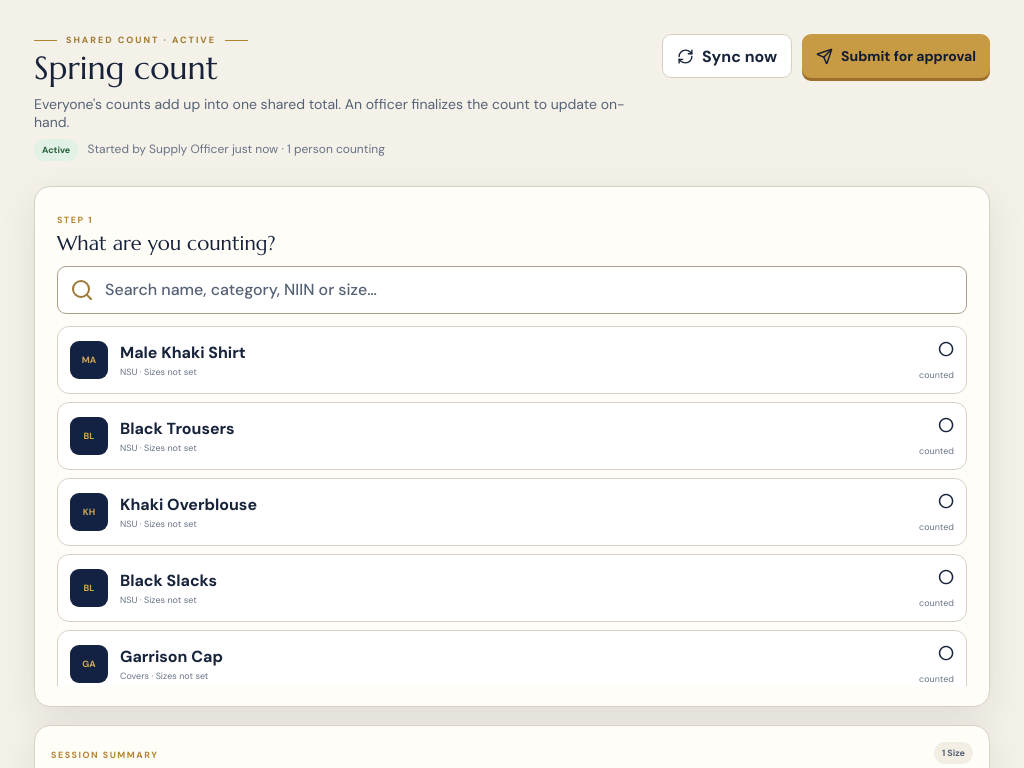
Test: count approval (spec §13) › an assistant submits the count for approval; it then reads Needs approval and closes to contributions
The image size is (1024, 768).
Expected: the text "SHARED COUNT · ACTIVE" is shown, x1=66 y1=34 x2=216 y2=46
Click the button "Submit for approval" at coordinates (896, 56), box x1=802 y1=34 x2=990 y2=78
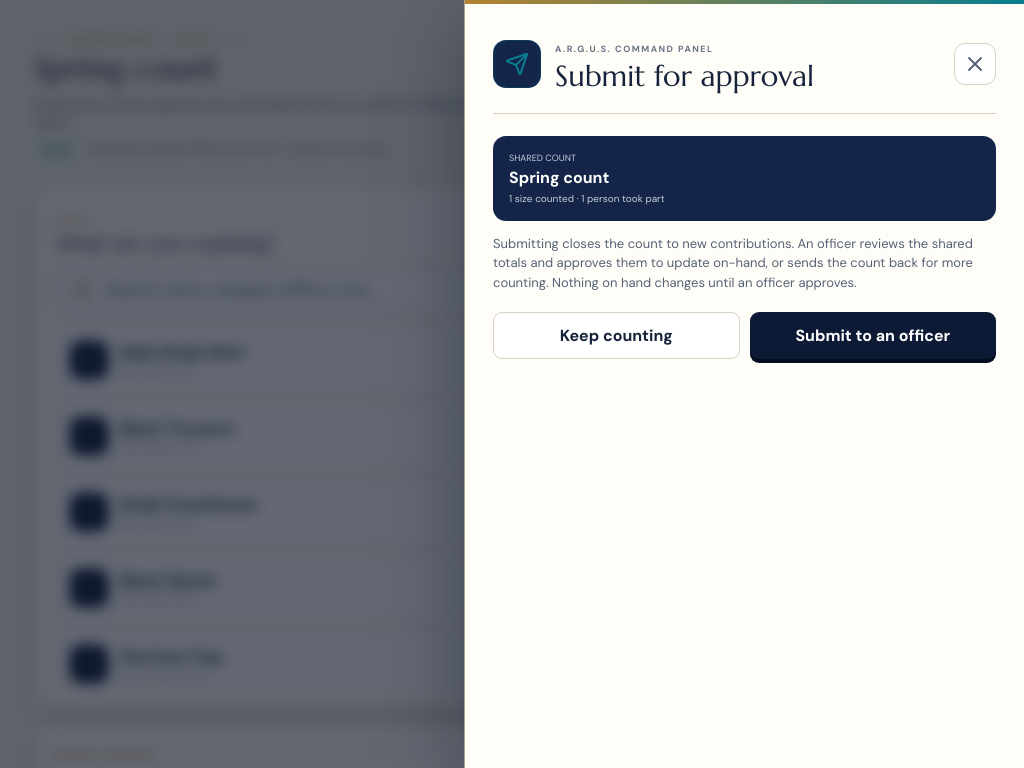
Result: the dialog "Submit for approval" shows "1 size counted" at x1=464 y1=0 x2=1023 y2=767
Click the button "Submit to an officer" at coordinates (873, 336), box x1=750 y1=312 x2=996 y2=359
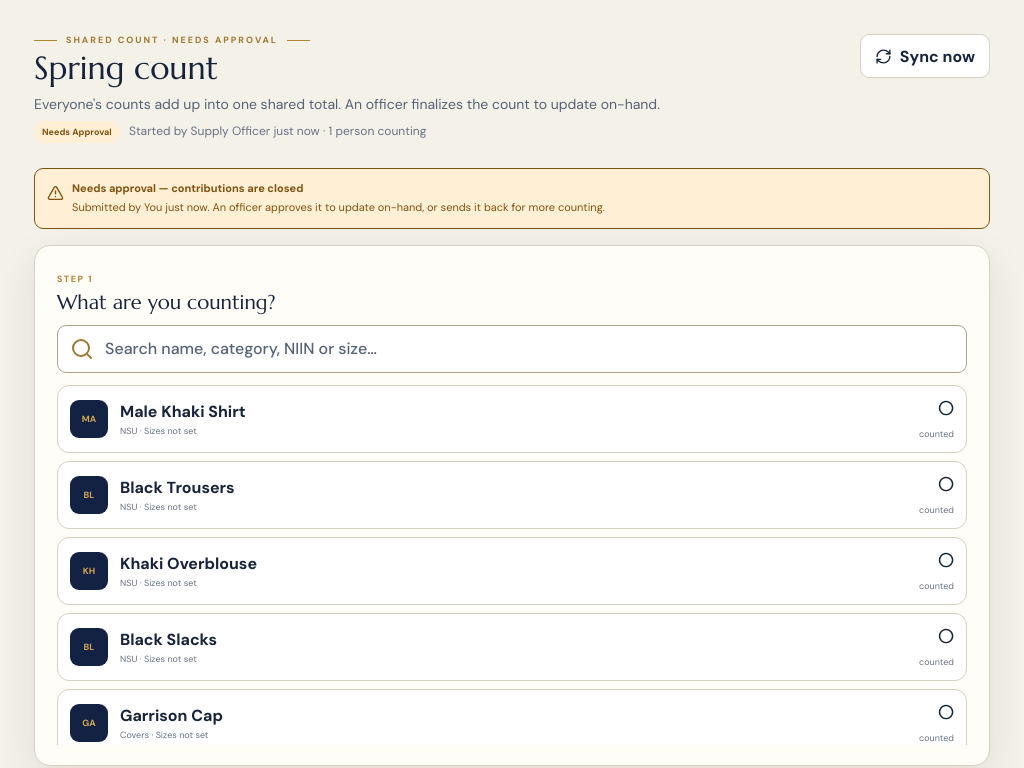
Result: the text "SHARED COUNT · NEEDS APPROVAL" is shown at x1=66 y1=34 x2=278 y2=46
Result: the text "Needs approval" is shown at x1=34 y1=121 x2=120 y2=143
Result: the text "Needs approval — contributions are closed" is shown at x1=72 y1=181 x2=303 y2=195
